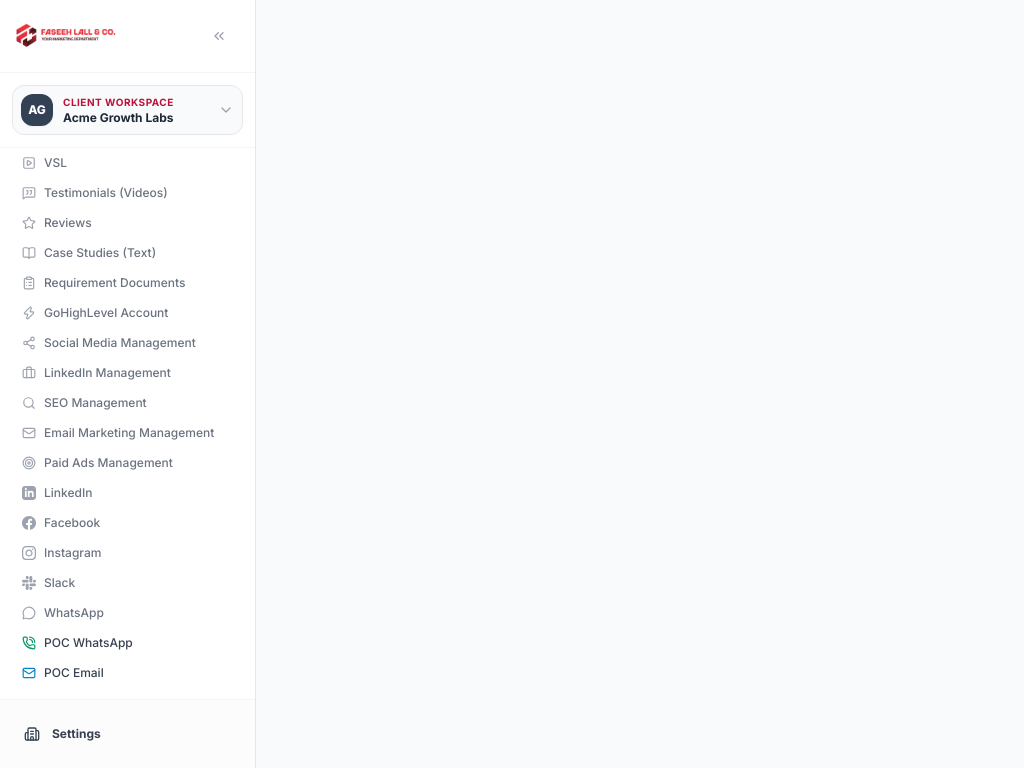
Variations and POC Email Workspace Links Suite › 1. Sidebar Integration › renders POC Email button and opens PocEmailModal with selectable text box and NO mailto link
(page scrolled)
Click to open dialog
Click the button with test id "sidebar-link-poc-email": {"x": 126, "y": 673} [12,659,239,687]
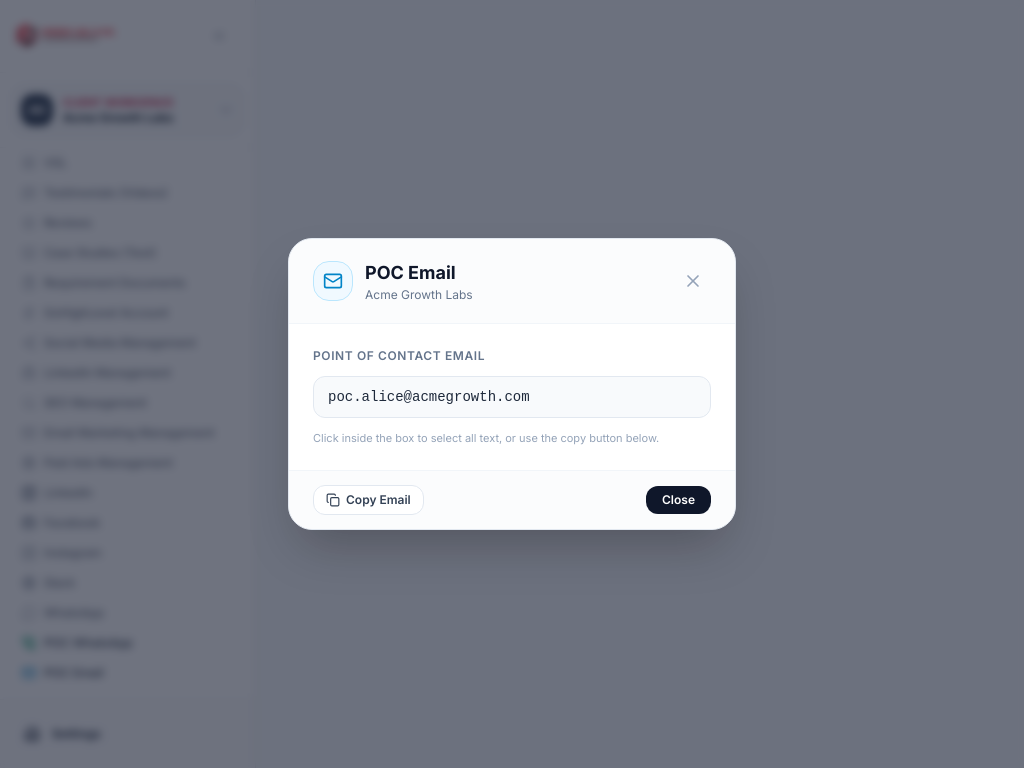
Check: the heading with test id "poc-email-modal-title" reads "POC Email", box [365,262,456,283]
Check: the field with test id "poc-email-input" holds "poc.alice@acmegrowth.com", box [313,376,711,418]
Check: the button with test id "poc-email-copy-btn" is shown, box [313,485,424,515]
Close modal
Click the button with test id "poc-email-dismiss-btn": {"x": 678, "y": 500} [646,486,711,514]
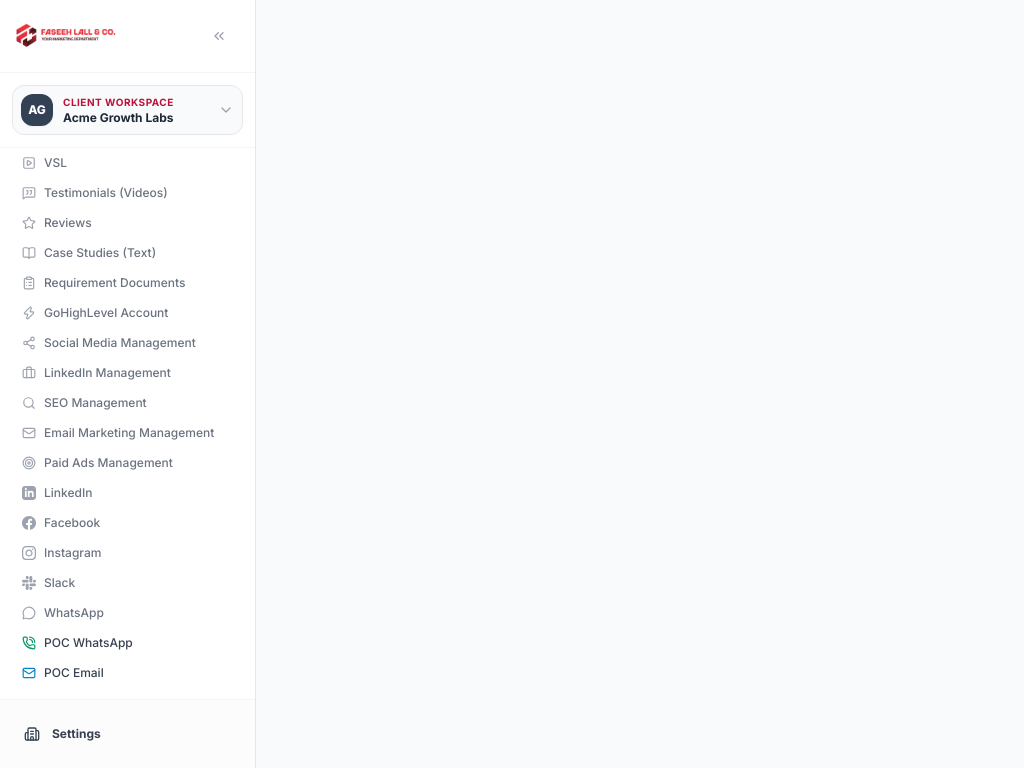
Check: the heading with test id "poc-email-modal-title" is gone
